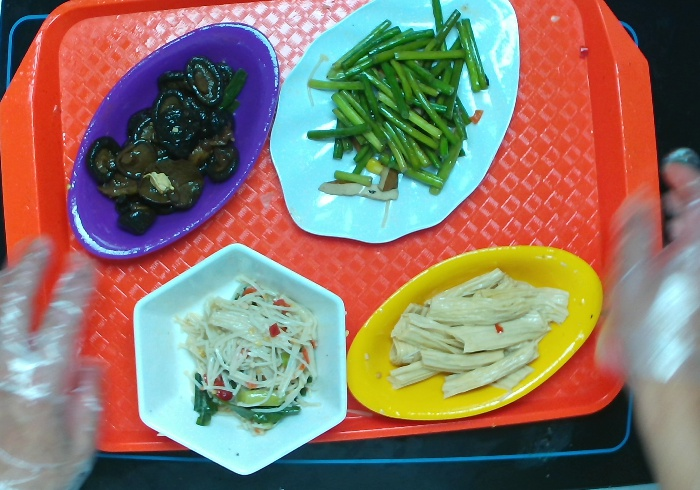RJxy-Bai_Ye_Pan: (266, 1, 527, 246)
RJxy-Fen_Hong_Tuo_Yuan: (63, 19, 284, 264)
RJxy-Huang_Se_Tuo_Yuan: (340, 240, 609, 427)
RJxy-Liu_Jiao_Wan: (128, 238, 352, 477)
